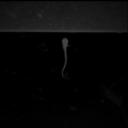fish: (60, 36, 72, 78)
